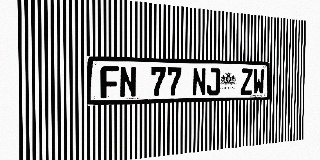7: (150, 67, 166, 97), (166, 67, 182, 97)
F: (101, 66, 119, 98)
J: (207, 68, 220, 96)
N: (119, 66, 137, 98), (192, 67, 206, 96)
W: (253, 69, 265, 94)
Z: (241, 68, 253, 95)
